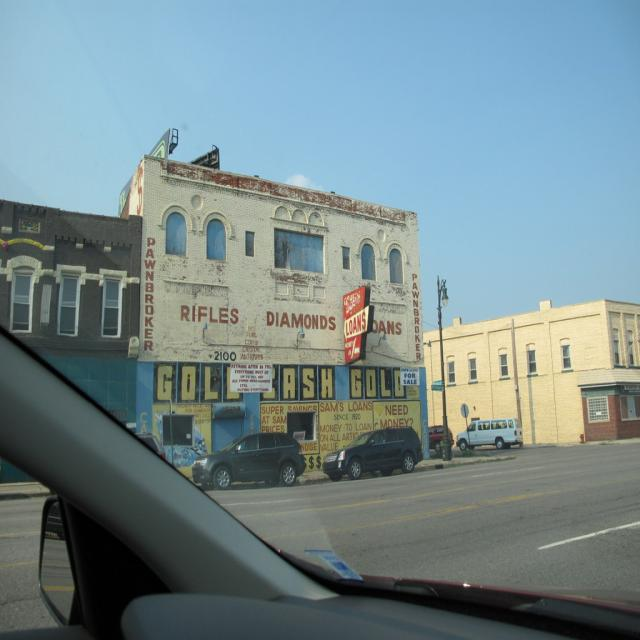car: (191, 428, 306, 488), (322, 423, 422, 479)
